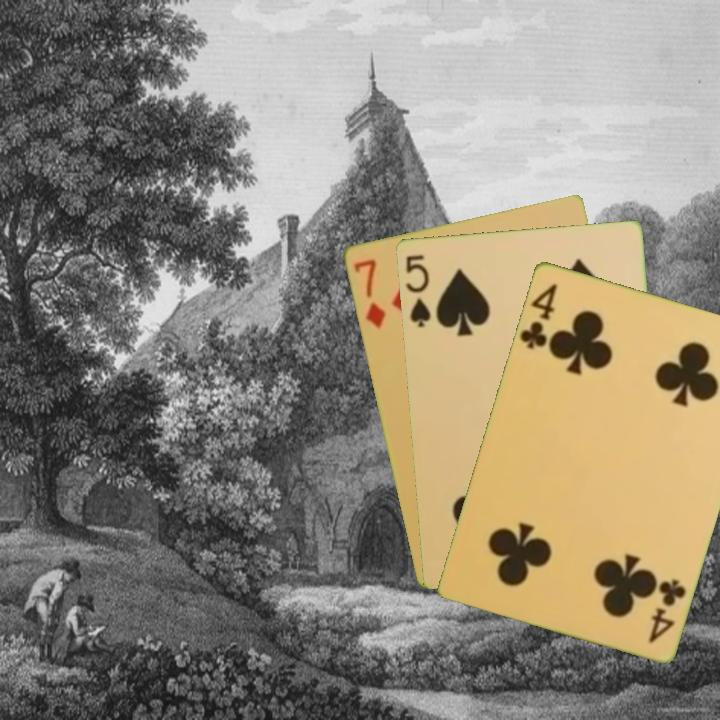4c: (516, 279, 560, 351), (645, 575, 688, 646)
5s: (402, 251, 433, 330)
7d: (349, 255, 388, 331)
